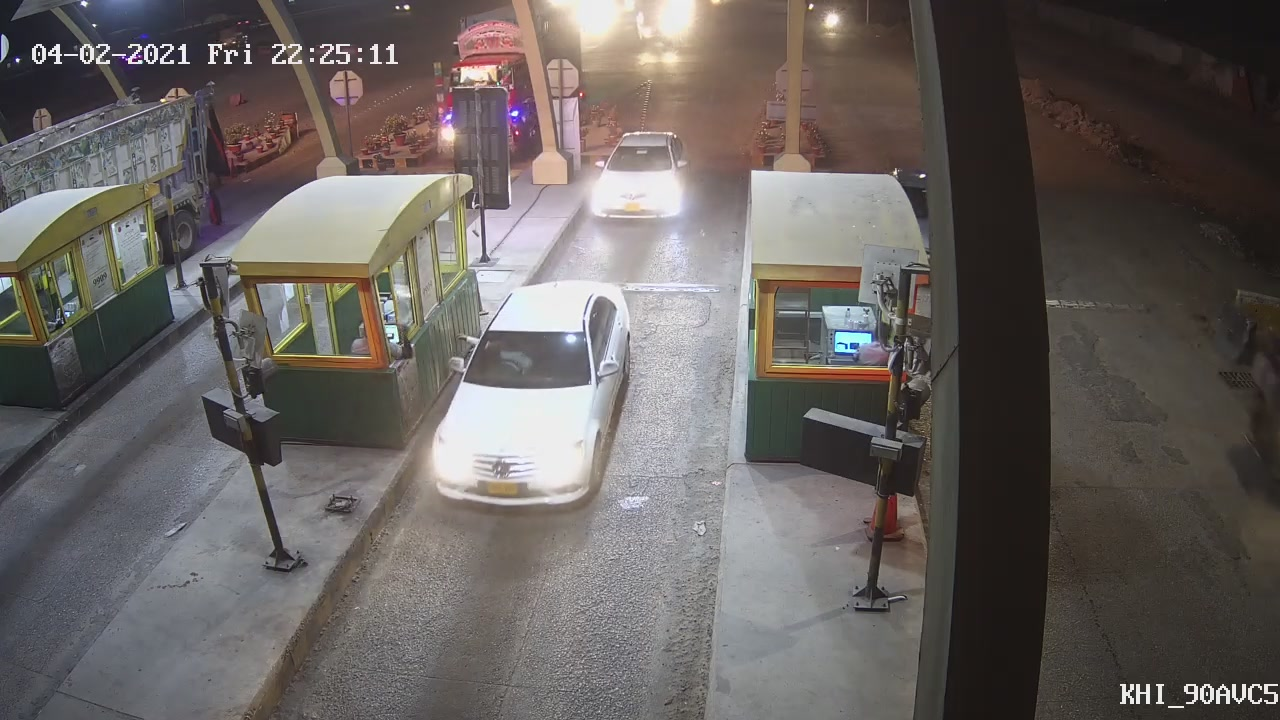F1: (429, 273, 637, 509), (590, 128, 705, 236)
